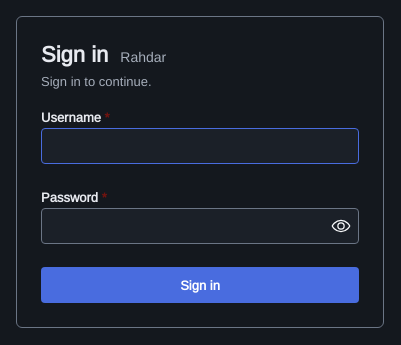
Scenario: LoginView › names a missing password when the field is left, before anything is pressed
Type "alice" into the field labelled "Username *" at (200, 146), box [41,128,359,164]
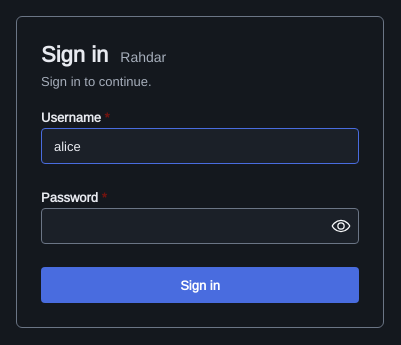
Click the password field labelled "Password *" at (200, 226), box [42,209,358,243]
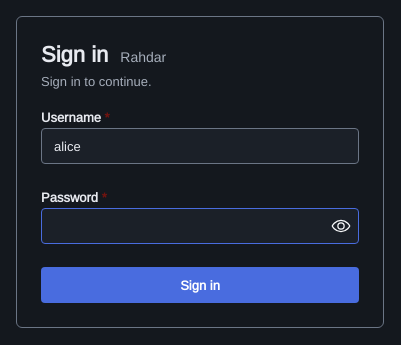
Press Tab
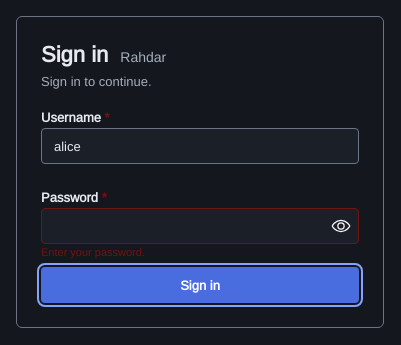
Expected: the text "Enter your password." is shown, [41,245,145,259]
